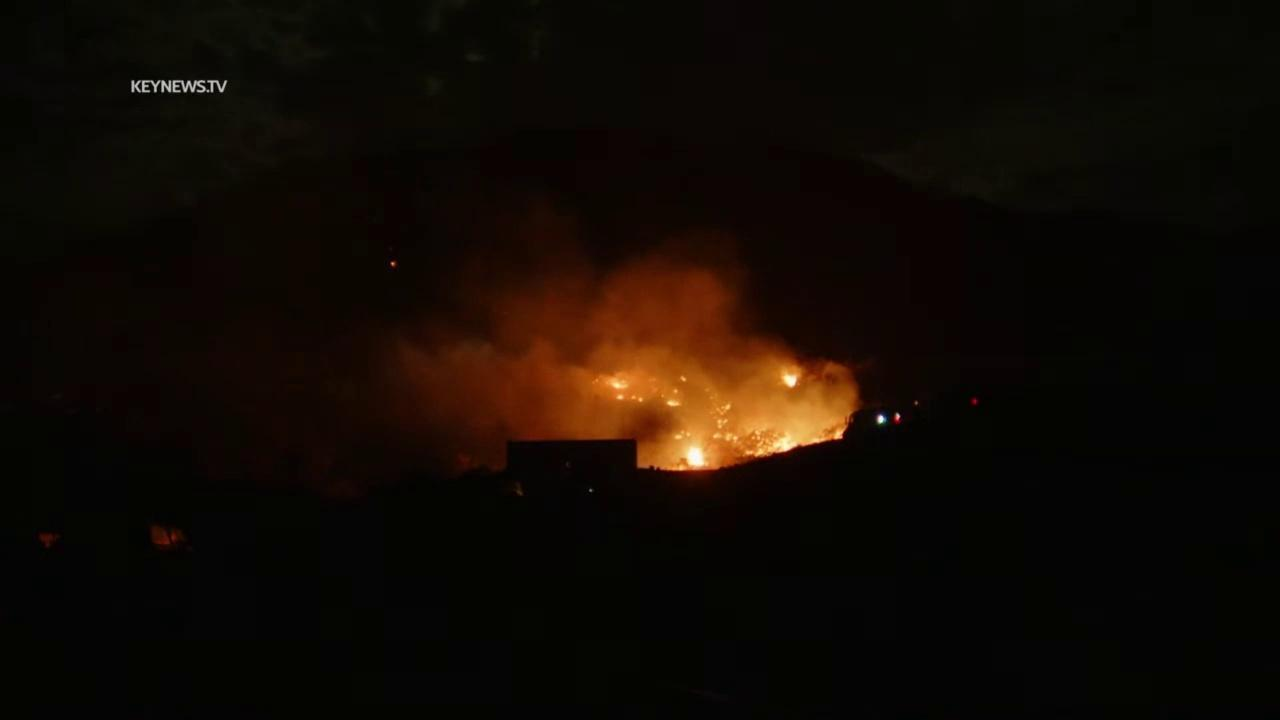fire: (743, 429, 799, 458), (711, 403, 741, 443), (686, 443, 708, 471), (780, 372, 799, 390), (804, 434, 829, 447), (606, 377, 628, 391), (835, 426, 847, 441), (666, 399, 683, 409), (630, 395, 644, 404), (675, 431, 685, 441), (614, 394, 625, 403), (680, 375, 687, 383)
smoke: (375, 238, 866, 473)
